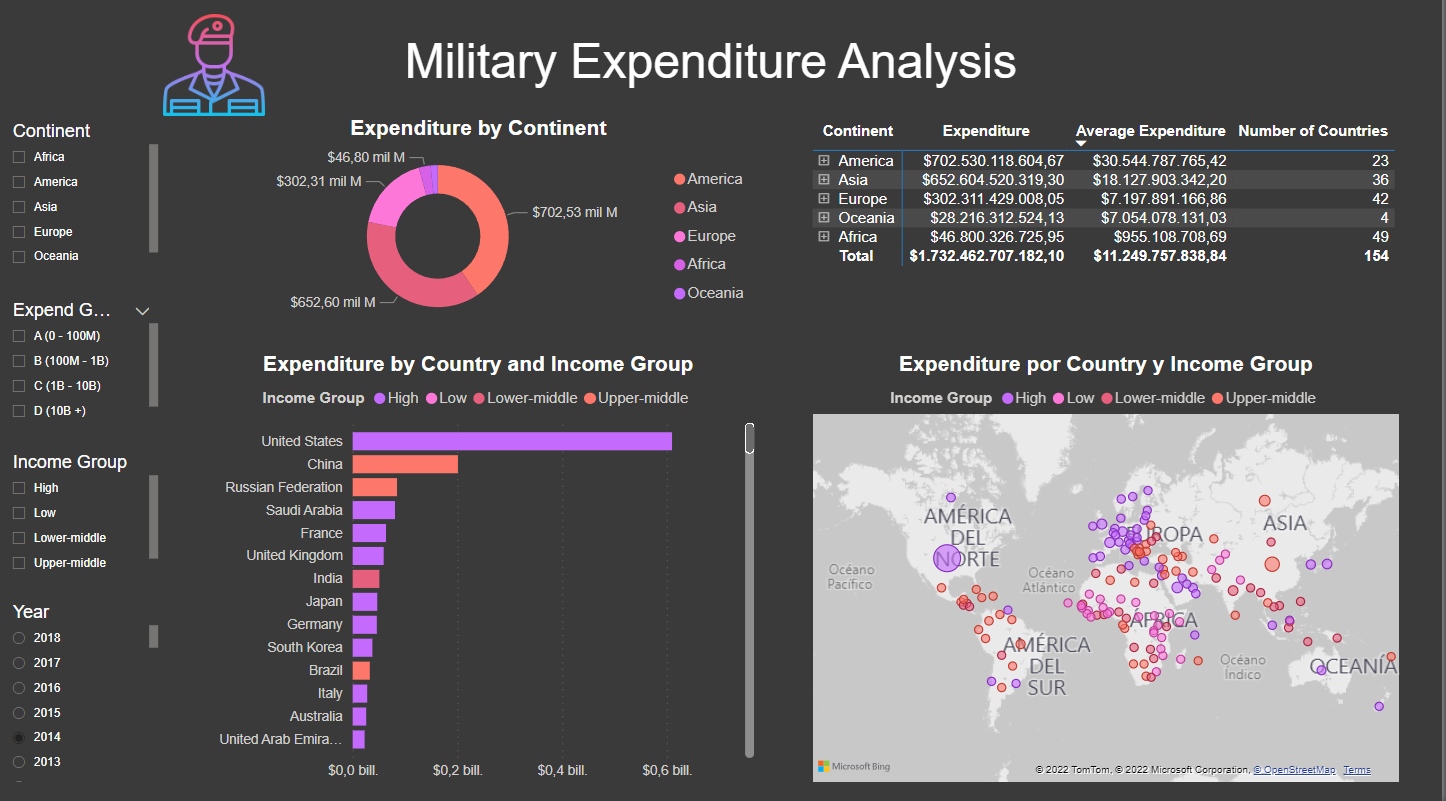

What the dashboard file says about the page in this screenshot:
{"tool":"powerbi","page":{"name":"Página 1","canvas":[1280,720],"ordinal":0},"visuals":[{"type":"donutChart","title":"Expenditure by Continent","fields":{"Category":["Military Expenditure.Continent"],"Y":["Sum(Military Expenditure.Expenditure)"]},"box":[176.4,111,498.8,191.6],"z":0},{"type":"slicer","fields":{"Values":["Military Expenditure.Year"]},"box":[0,537.3,146.9,169.3],"z":1000},{"type":"map","fields":{"Category":["Military Expenditure.Country"],"Size":["Sum(Military Expenditure.Expenditure)"],"Series":["GNI.Income Group"]},"box":[717.3,320.1,530.2,386.6],"z":2000},{"type":"barChart","title":"Expenditure by Country and Income Group","fields":{"Category":["Military Expenditure.Country"],"Y":["Sum(Military Expenditure.Expenditure)"],"Series":["GNI.Income Group"]},"box":[176.4,319.7,498.8,386.9],"z":3000},{"type":"pivotTable","fields":{"Rows":["Military Expenditure.Continent","Military Expenditure.Country"],"Values":["Sum(Military Expenditure.Expenditure)","Avg(Military Expenditure.Expenditure)","Count(Military Expenditure.Country)"]},"box":[717.3,110.8,530.2,191.5],"z":4000},{"type":"slicer","fields":{"Values":["Military Expenditure.Continent"]},"box":[0,111,146.9,137.9],"z":5000},{"type":"slicer","fields":{"Values":["GNI.Income Group"]},"box":[0,404.8,146.9,115.5],"z":6000},{"type":"slicer","fields":{"Values":["Military Expenditure.Expend Group"]},"box":[0,269.6,146.9,116.4],"z":7000},{"type":"textbox","box":[355.6,32.8,568.4,64.7],"z":7001},{"type":"image","box":[138.3,12.4,105.5,105.5],"z":7003}]}

Visuals, with their boxes in screenshot pixels (x1, y1, x2, y2), scaled from the page's 1280x720 canvas onto the 1446x801 screenshot:
"Expenditure by Continent" donutChart: <bbox>199, 123, 763, 337</bbox>
slicer - Military Expenditure.Year: <bbox>0, 598, 166, 786</bbox>
map - Military Expenditure.Country x Sum(Military Expenditure.Expenditure): <bbox>810, 356, 1409, 786</bbox>
"Expenditure by Country and Income Group" barChart: <bbox>199, 356, 763, 786</bbox>
pivotTable - Military Expenditure.Continent x Military Expenditure.Country: <bbox>810, 123, 1409, 336</bbox>
slicer - Military Expenditure.Continent: <bbox>0, 123, 166, 277</bbox>
slicer - GNI.Income Group: <bbox>0, 450, 166, 579</bbox>
slicer - Military Expenditure.Expend Group: <bbox>0, 300, 166, 429</bbox>
textbox: <bbox>402, 36, 1044, 108</bbox>
image: <bbox>156, 14, 275, 131</bbox>
